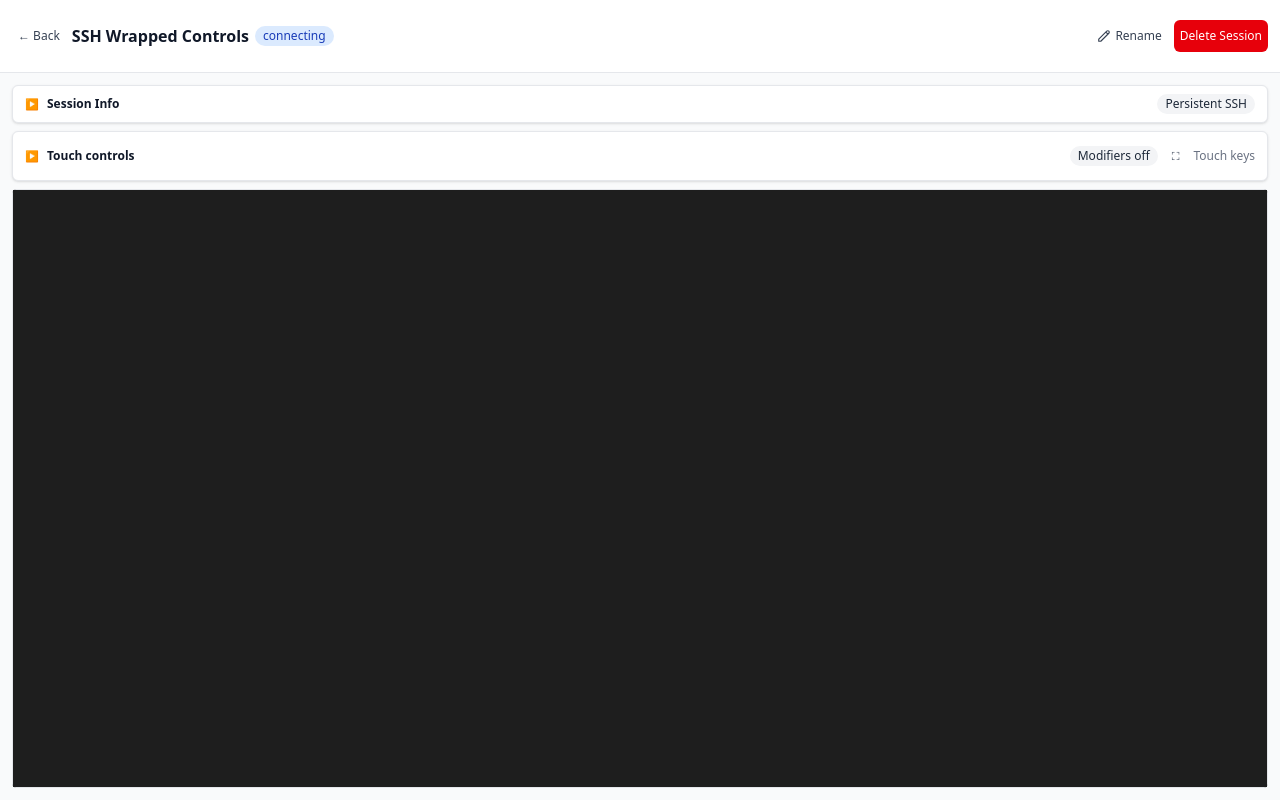
Test: SshSessionDetails › wraps touch controls instead of forcing horizontal scrolling
Expected: the heading "SSH Wrapped Controls" is shown, [72,24,249,48]
What coordinates should you click on to do the following:
click the text "Touch controls"
I would click on:
 (91, 156)
Its box is [47,148,134,164].
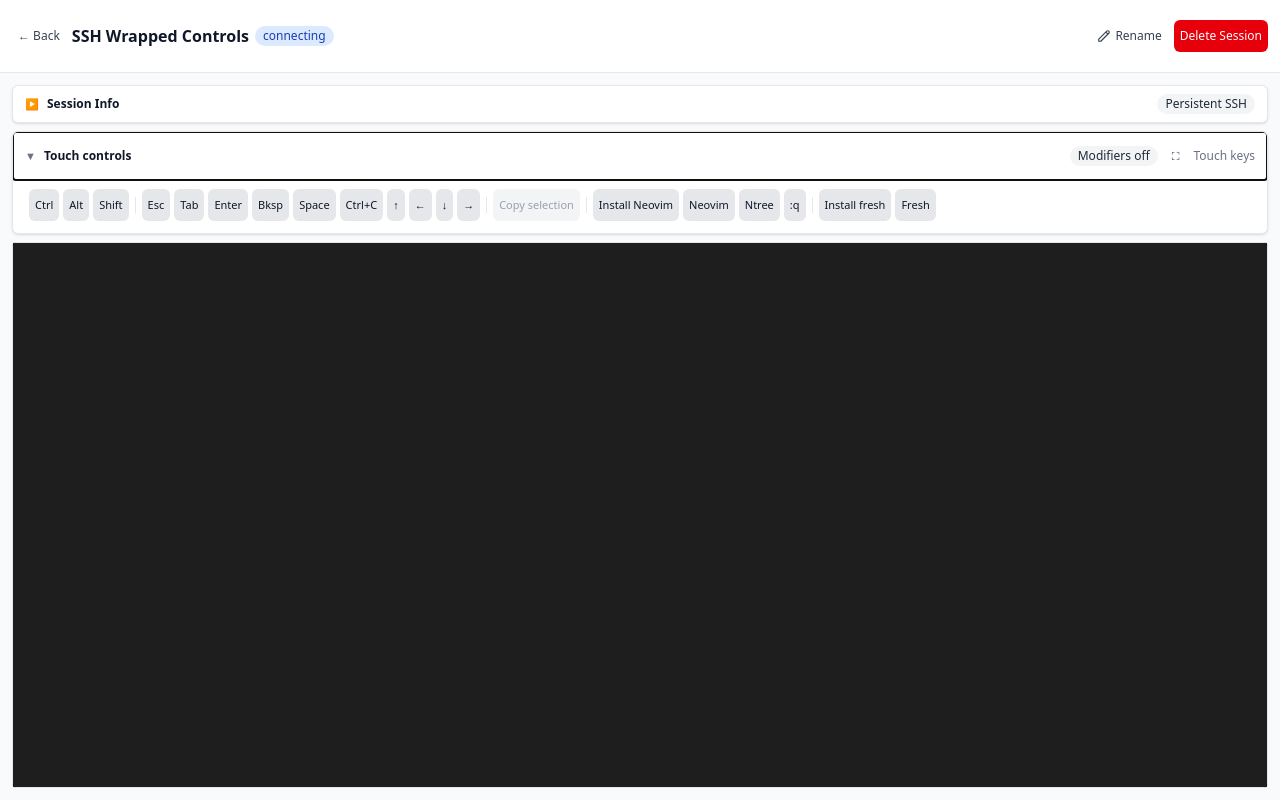
Now the button "↓" is shown, box [436,189,453,221]
